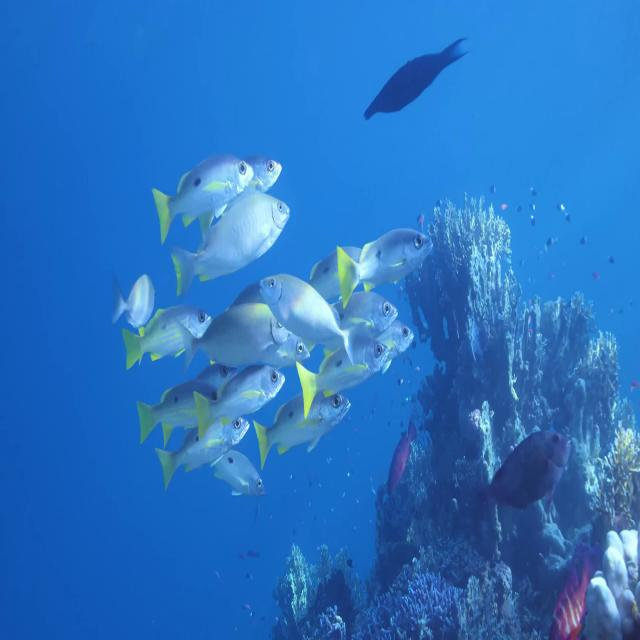fish: (172, 190, 290, 304), (470, 426, 574, 520), (260, 275, 358, 363), (150, 158, 252, 239), (180, 300, 292, 370), (293, 332, 392, 410), (336, 225, 434, 303), (161, 414, 250, 496), (253, 390, 350, 460), (196, 366, 285, 434), (123, 307, 215, 371), (137, 382, 220, 438), (112, 275, 160, 327)
